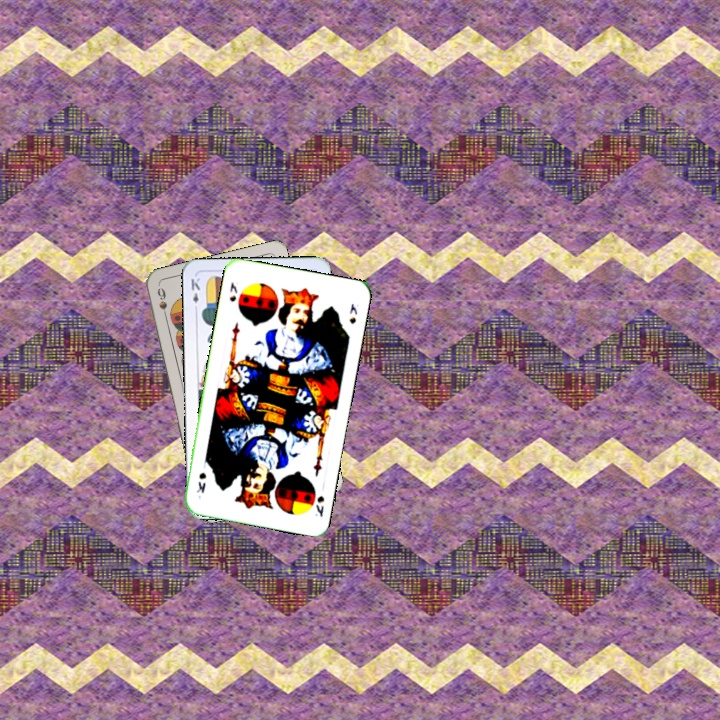EK: (187, 274, 203, 314)
S9: (153, 283, 170, 323)
SK: (311, 491, 327, 519), (225, 278, 240, 304)
